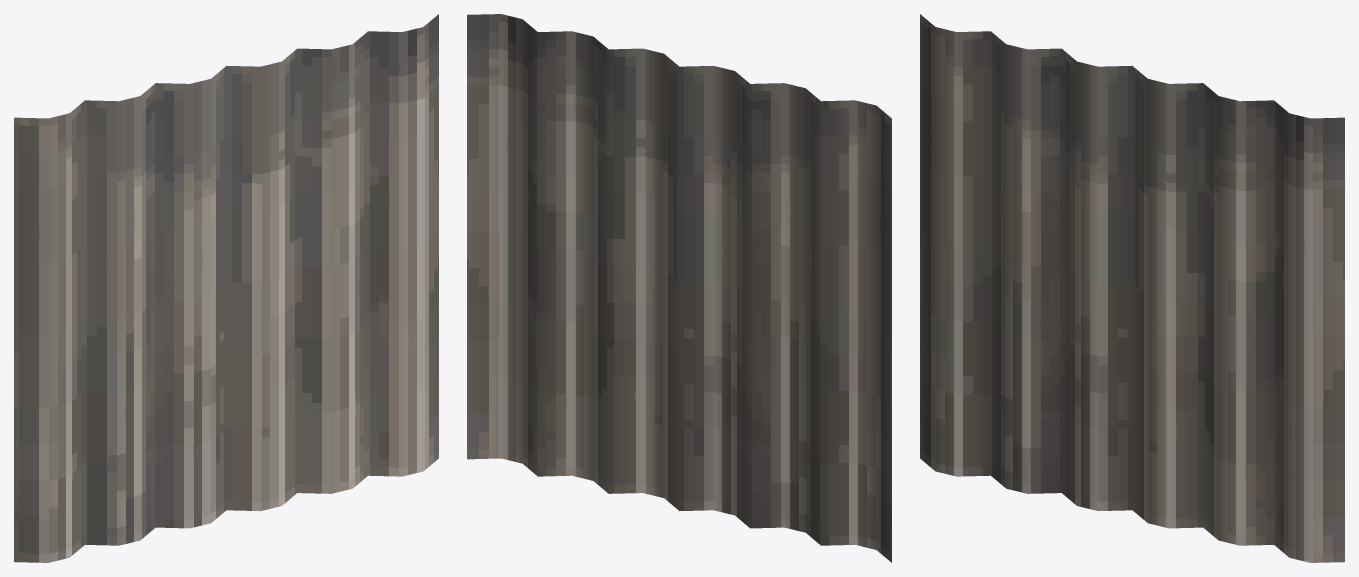
Rendered from item_metal_plate.glb.
The picture shows the model from 3 angles, left to right: view 1: azimuth 30°, elevation 25°; view 2: azimuth 150°, elevation 25°; view 3: azimuth 330°, elevation 25°; orthographic projection.
Visible parts, largest first — view 1: MetalPlate; view 2: MetalPlate; view 3: MetalPlate.
Part boxes in pixels (<box>): MetalPlate: <box>14,14,438,562</box>; MetalPlate: <box>467,14,891,562</box>; MetalPlate: <box>920,14,1344,562</box>.
Size of the model in its own units: 1.38 by 1.38 by 0.053.
Materials: 1 (1 with a texture image).
